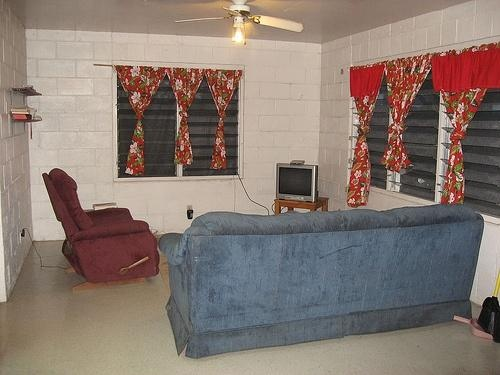chair: (44, 167, 161, 291)
sofa: (157, 201, 486, 358)
tvmonitor: (276, 160, 319, 204)
